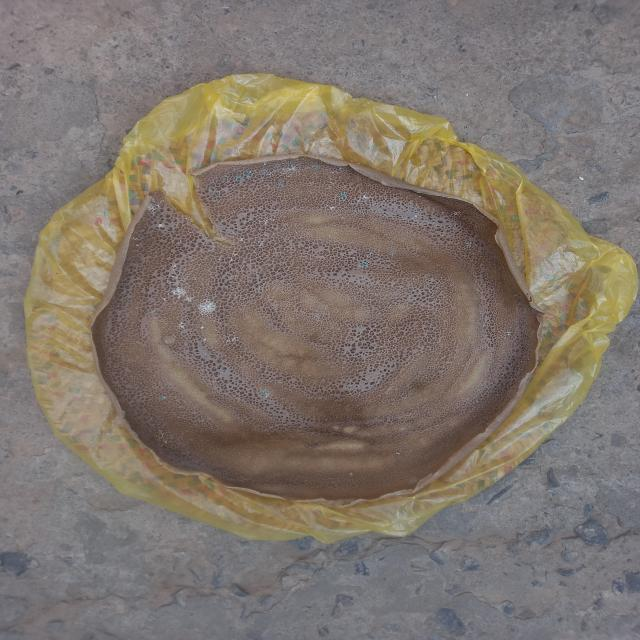injera_mold: (143, 196, 165, 214), (196, 299, 217, 317), (169, 287, 196, 301), (164, 272, 198, 283), (280, 164, 301, 177), (220, 332, 242, 344), (258, 215, 276, 226), (252, 235, 265, 248), (357, 194, 375, 202), (449, 210, 465, 217), (260, 388, 271, 398), (156, 429, 164, 438), (238, 238, 248, 245), (178, 322, 186, 330), (158, 394, 167, 401), (339, 193, 348, 200), (358, 262, 368, 268), (157, 223, 166, 229), (366, 252, 375, 258), (156, 442, 164, 448), (171, 264, 179, 270), (234, 176, 242, 182), (151, 309, 158, 315), (260, 168, 267, 174), (388, 251, 396, 256), (266, 181, 272, 187), (294, 158, 300, 164), (466, 242, 472, 248), (276, 182, 283, 187), (198, 419, 206, 423), (243, 172, 251, 176), (348, 472, 354, 477), (208, 187, 214, 192), (214, 191, 220, 196), (201, 338, 208, 342), (160, 297, 167, 301), (411, 479, 416, 484), (395, 452, 401, 456), (131, 237, 139, 240), (285, 160, 293, 163), (314, 166, 320, 170), (337, 167, 343, 171), (309, 180, 315, 184), (229, 258, 235, 262), (329, 207, 336, 210), (200, 326, 205, 330), (506, 332, 511, 336), (414, 215, 418, 219), (360, 211, 365, 214), (164, 441, 168, 444), (162, 266, 166, 269), (341, 217, 345, 220), (135, 244, 139, 246), (275, 164, 279, 166), (418, 195, 422, 197), (302, 158, 305, 160), (275, 202, 277, 205), (498, 401, 500, 403), (506, 399, 508, 400)
